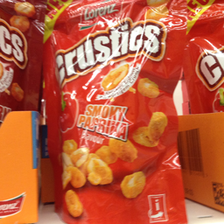nuts: (40, 1, 191, 224)
